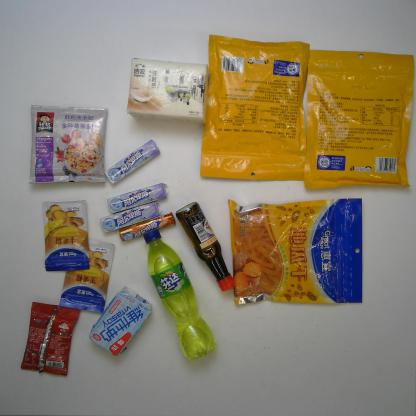Candy: (103, 139, 161, 186), (98, 199, 164, 233), (107, 182, 170, 215), (118, 211, 177, 242)
Dried Fruit: (199, 33, 311, 182), (302, 49, 416, 191), (227, 197, 365, 307)
Drink: (142, 228, 216, 362)
Instant Drink: (28, 104, 108, 184), (20, 300, 82, 378)
Milk: (88, 285, 153, 359)
Seasoner: (175, 201, 236, 292), (59, 238, 116, 314), (41, 200, 90, 272)
Tissue: (126, 57, 209, 126)
